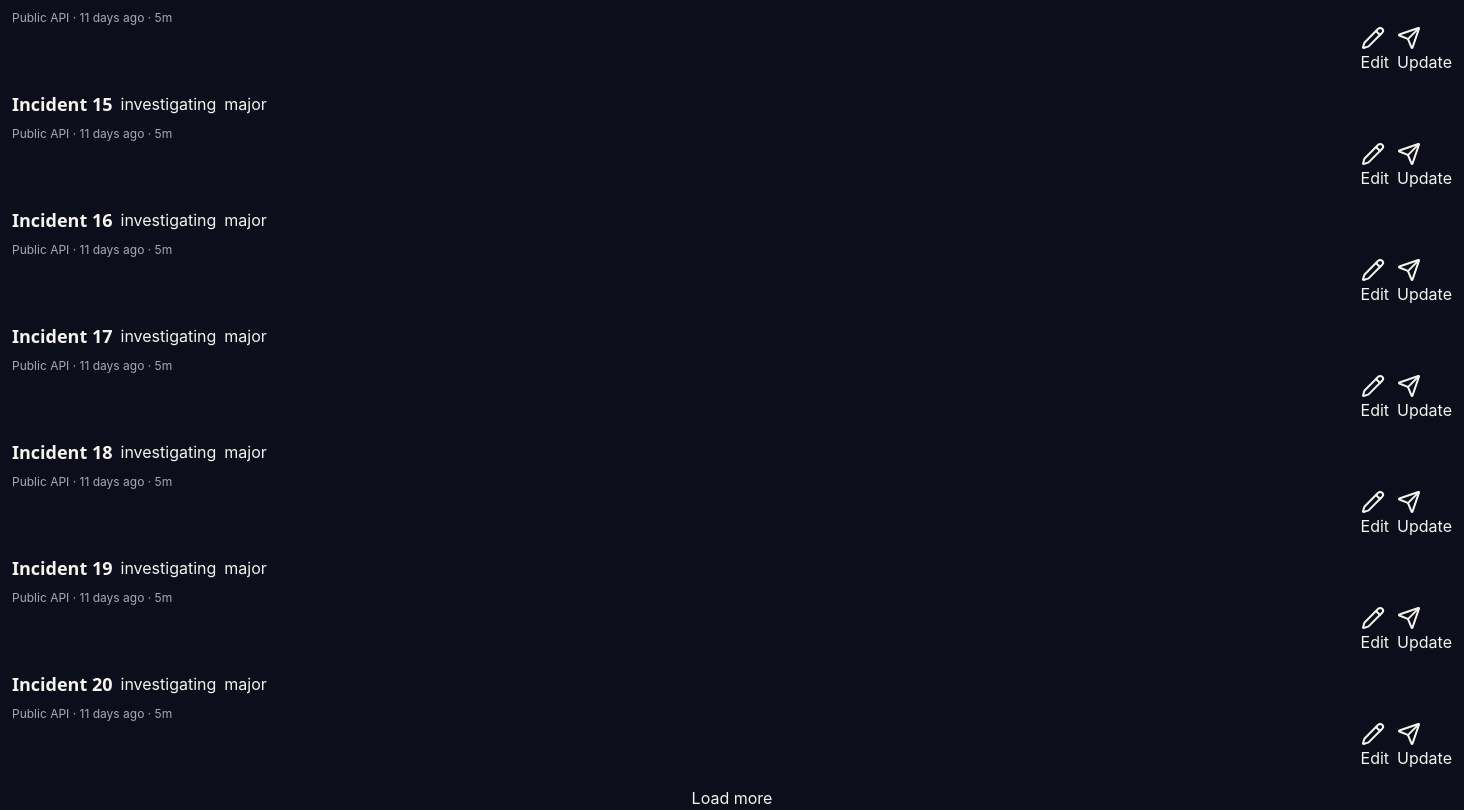
OperationsPage incident updates › loads long incident histories in manageable groups
(page scrolled)
Check: the heading "Incident 20" is shown, box 12,670 -> 112,698
Check: the text "Incident 21" is not shown
Click the button "Load more": (732, 798) 12,786 -> 1452,809
(page scrolled)
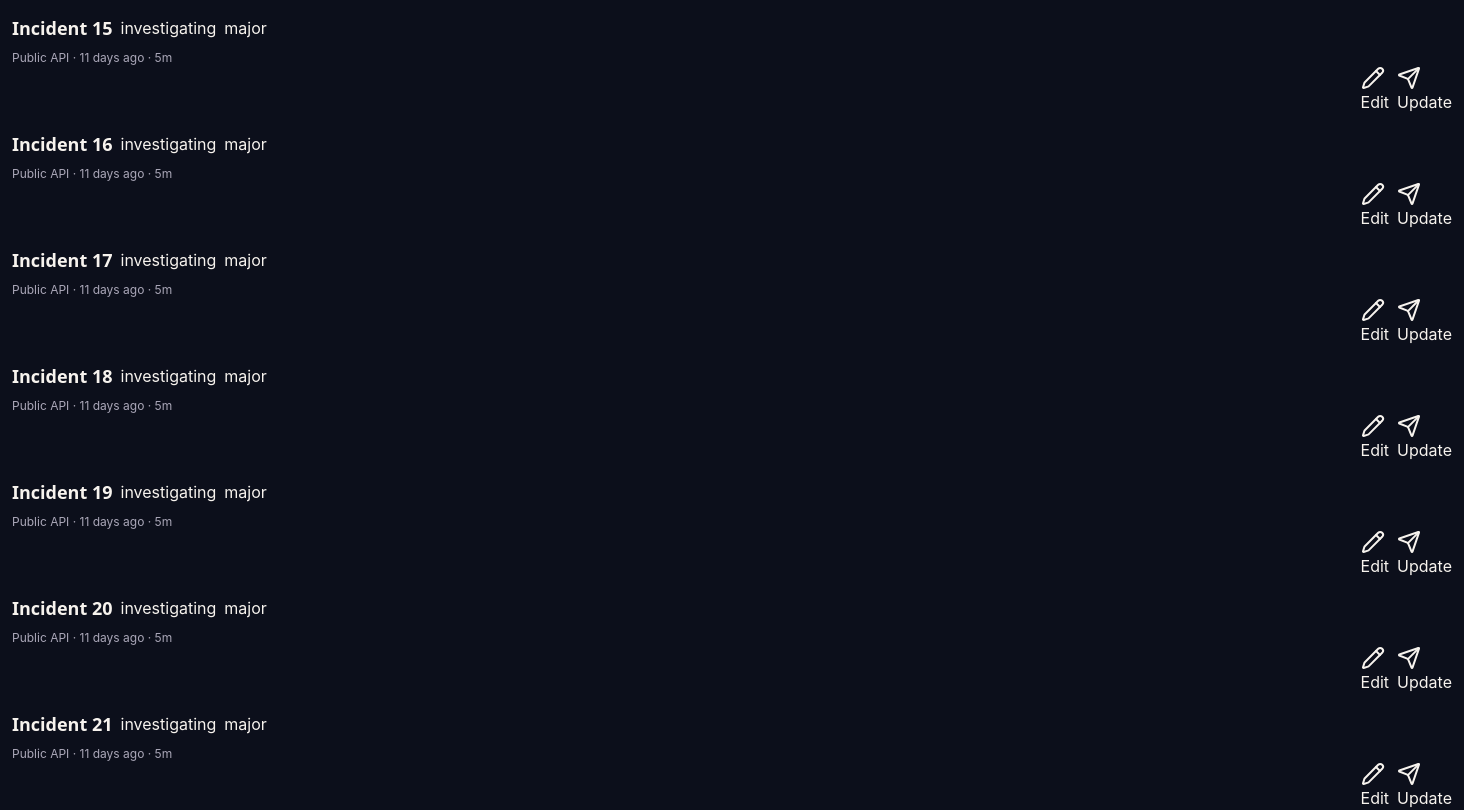
Check: the heading "Incident 21" is shown, box 12,710 -> 112,738
Check: the button "Load more" is gone
